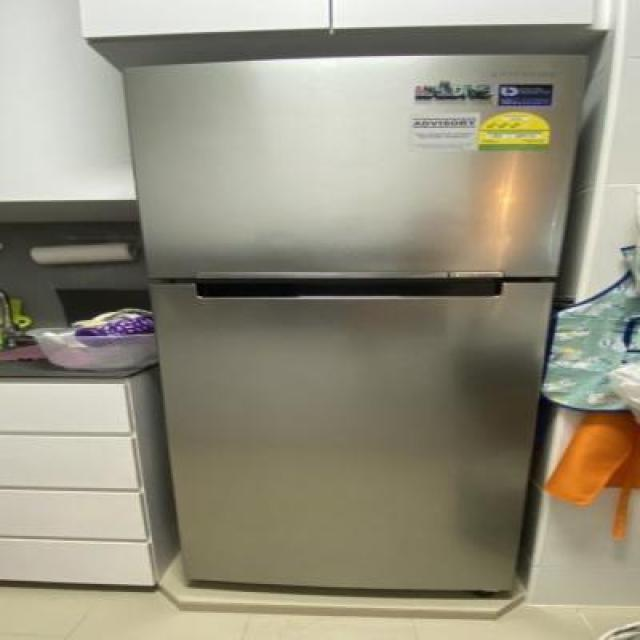refrigerator: (127, 51, 598, 594)
